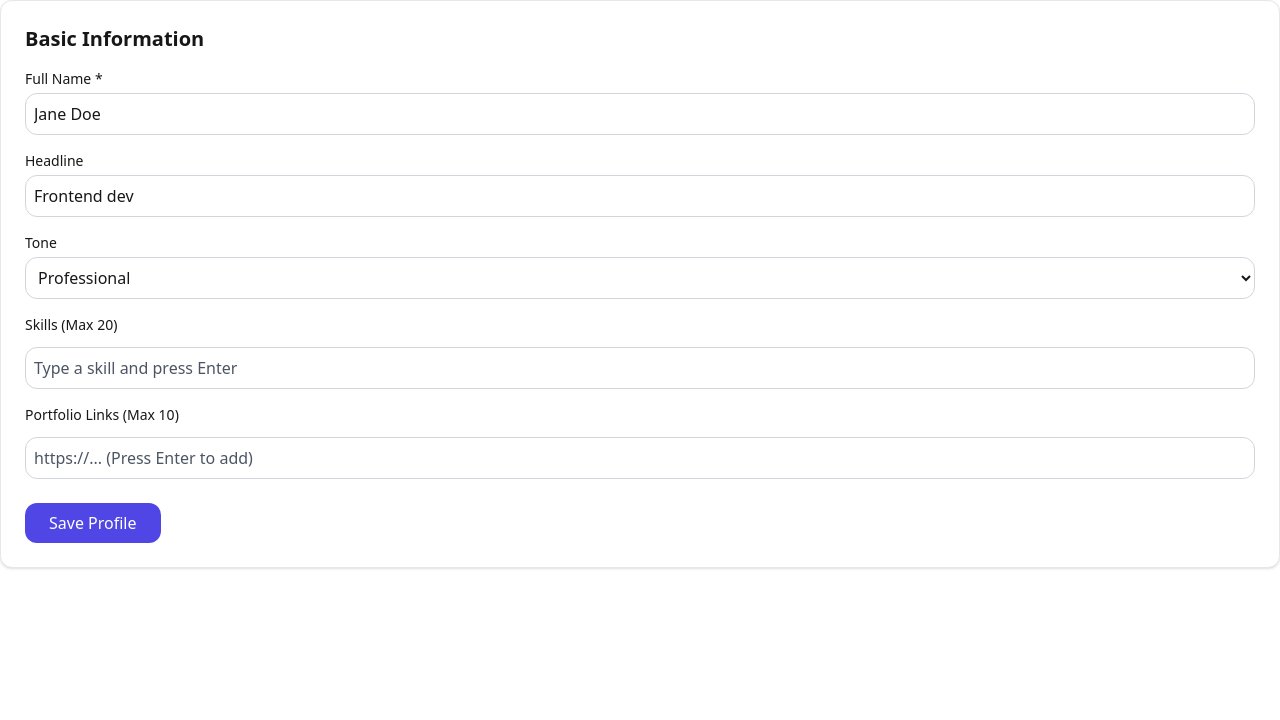
Scenario: ProfileForm – portfolio link validation › adds a valid https:// URL when Enter is pressed
Step 1. Type "https://example.com" into the field with placeholder "https://... (Press Enter to add)" → (640, 458), box [25,437,1255,479]
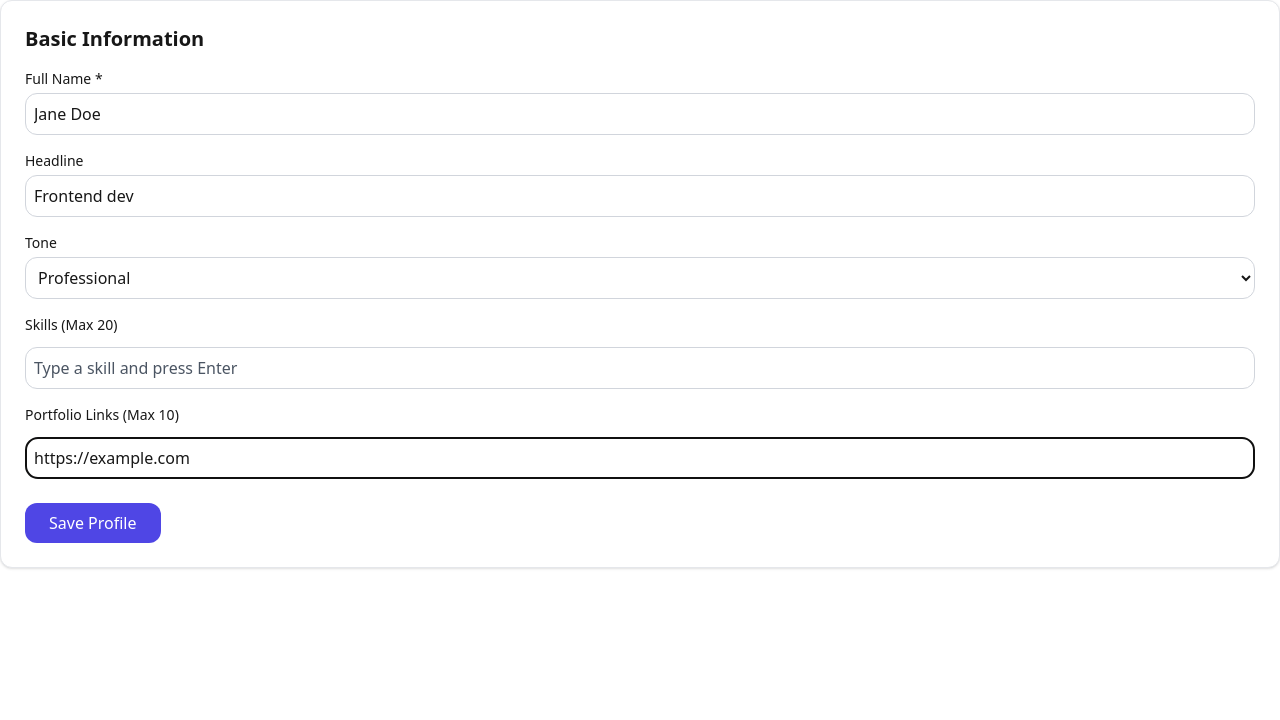
Step 2. Press Enter
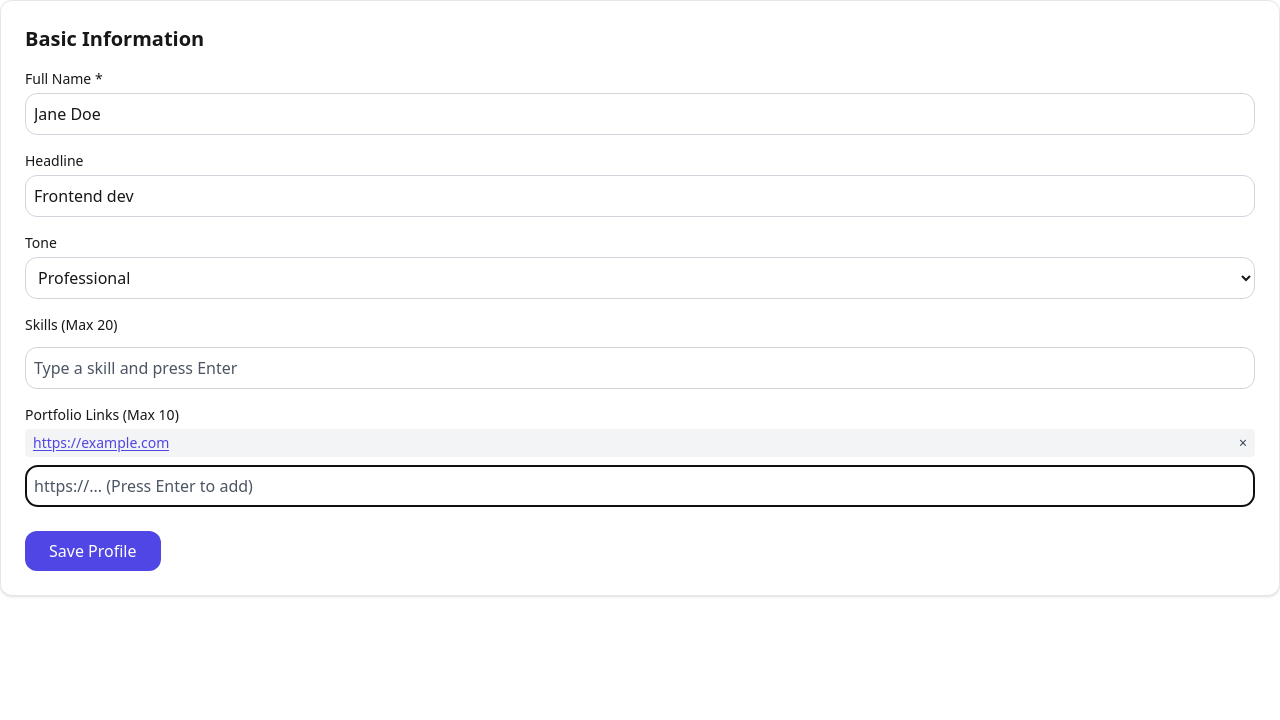
Result: the link "https://example.com" is shown at [33,433,169,453]
